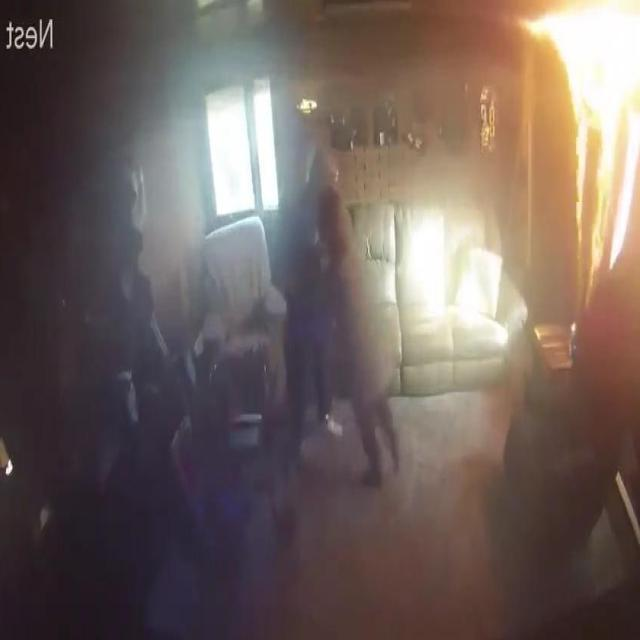smoke: (513, 2, 640, 296)
